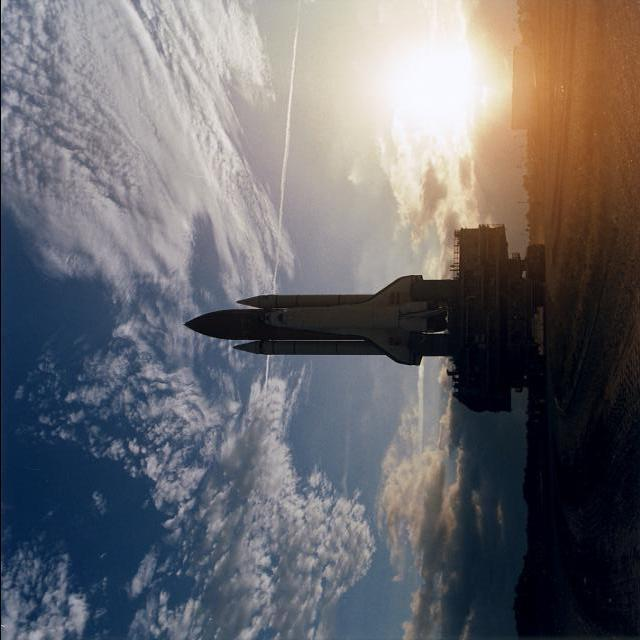Missile: (227, 340, 399, 358), (224, 290, 377, 306)
